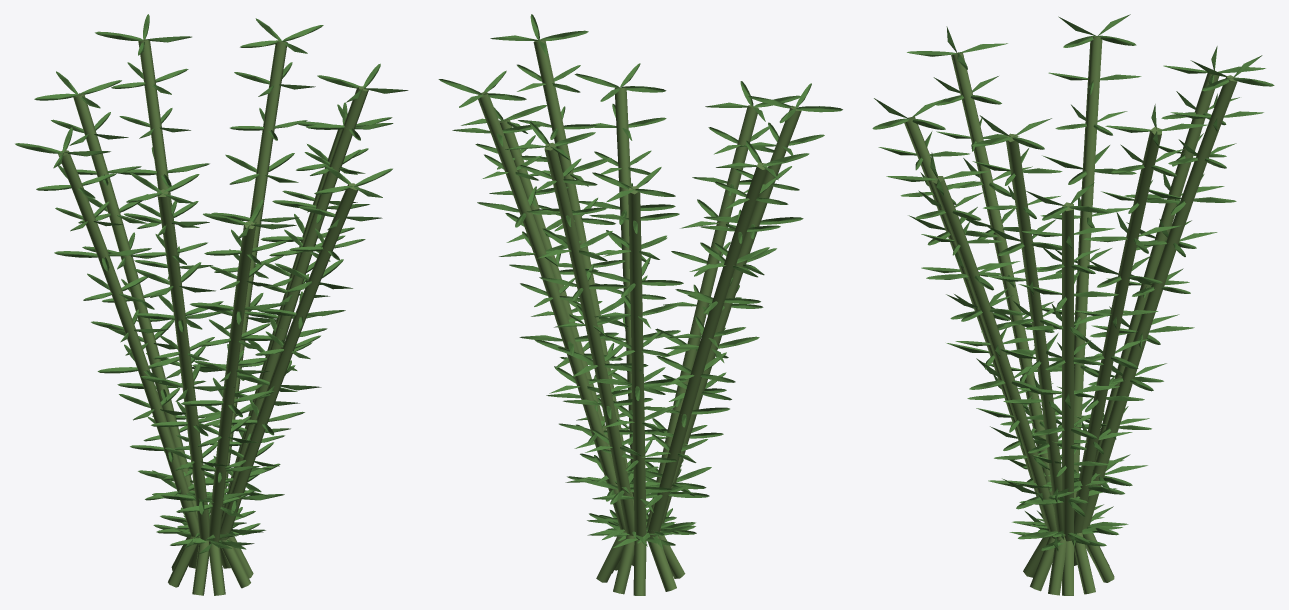
The model's file is asparagus-densiflorus-myersii.glb.
3 renders of one model, left to right at view 1: azimuth 30°, elevation 25°; view 2: azimuth 150°, elevation 25°; view 3: azimuth 270°, elevation 25°, orthographic. The views are drawn at different scales.
Parts seen in each view (by area): view 1: Foxtail fern needle leaves, Foxtail fern stems; view 2: Foxtail fern stems, Foxtail fern needle leaves; view 3: Foxtail fern stems, Foxtail fern needle leaves.
Part boxes in pixels (box(x1,y1,x2,y2)): Foxtail fern needle leaves: box(15, 14, 408, 554); Foxtail fern stems: box(58, 39, 368, 595); Foxtail fern stems: box(478, 39, 801, 595); Foxtail fern needle leaves: box(438, 14, 842, 549); Foxtail fern stems: box(904, 36, 1237, 595); Foxtail fern needle leaves: box(872, 14, 1274, 551).
Bounding box in the file's own units: 0.2498 × 0.3458 × 0.2447.
